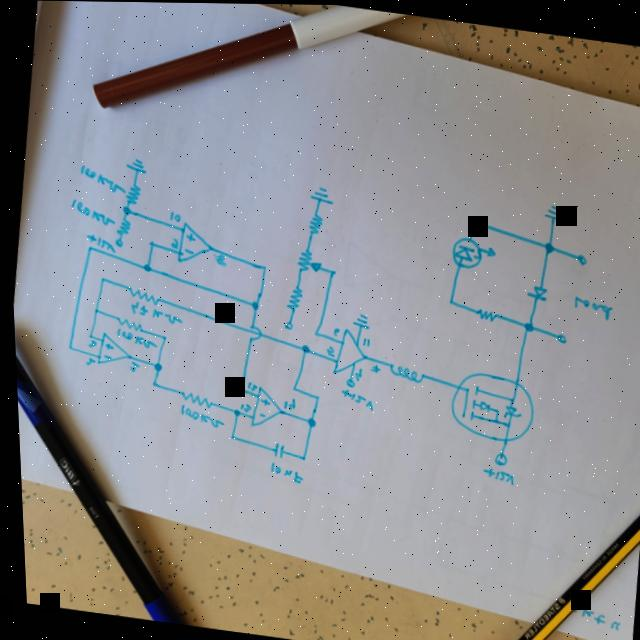capacitor: (266, 440, 282, 460)
crossover: (241, 321, 261, 343)
diode: (446, 234, 495, 272), (520, 280, 547, 303)
ground: (303, 182, 334, 206), (538, 201, 565, 224), (122, 156, 147, 175), (347, 310, 368, 330)
inductor: (383, 362, 422, 383)
junction: (537, 237, 555, 255), (517, 317, 533, 334), (294, 342, 308, 355), (138, 261, 150, 274), (301, 416, 313, 428), (324, 266, 336, 277), (148, 361, 160, 372), (245, 298, 257, 309), (307, 327, 319, 338), (119, 205, 130, 216), (466, 215, 477, 226), (443, 296, 454, 307), (145, 379, 156, 389), (82, 244, 93, 254), (256, 263, 266, 273), (222, 432, 232, 441), (294, 453, 304, 462), (61, 344, 71, 353), (88, 306, 97, 316), (228, 408, 237, 417), (95, 275, 104, 284), (309, 392, 318, 401), (286, 383, 295, 392), (144, 240, 153, 247), (234, 387, 242, 394), (158, 334, 165, 341), (84, 333, 91, 340)
resistor: (291, 247, 322, 276), (174, 389, 211, 409), (123, 285, 158, 306), (281, 283, 301, 313), (302, 211, 322, 238), (469, 305, 497, 323), (121, 182, 141, 206), (113, 317, 142, 333), (112, 217, 130, 237)
terminal: (571, 250, 588, 266), (488, 450, 504, 465), (552, 331, 564, 342), (111, 237, 122, 248), (340, 376, 351, 387), (281, 319, 291, 330)
text: (75, 164, 127, 195), (124, 300, 181, 326), (63, 199, 115, 227), (567, 292, 612, 321), (175, 403, 221, 429), (111, 327, 156, 351), (334, 387, 371, 411), (262, 461, 300, 484), (82, 232, 115, 254), (476, 465, 512, 484), (164, 209, 180, 224), (279, 397, 293, 411), (122, 360, 137, 373), (212, 253, 225, 266), (234, 402, 248, 413), (349, 366, 359, 381), (365, 363, 378, 374), (242, 380, 255, 391), (321, 344, 332, 356), (80, 357, 92, 368), (166, 237, 177, 248), (326, 325, 337, 336), (83, 339, 95, 349), (358, 337, 368, 348)
transistor: (441, 367, 535, 446)
